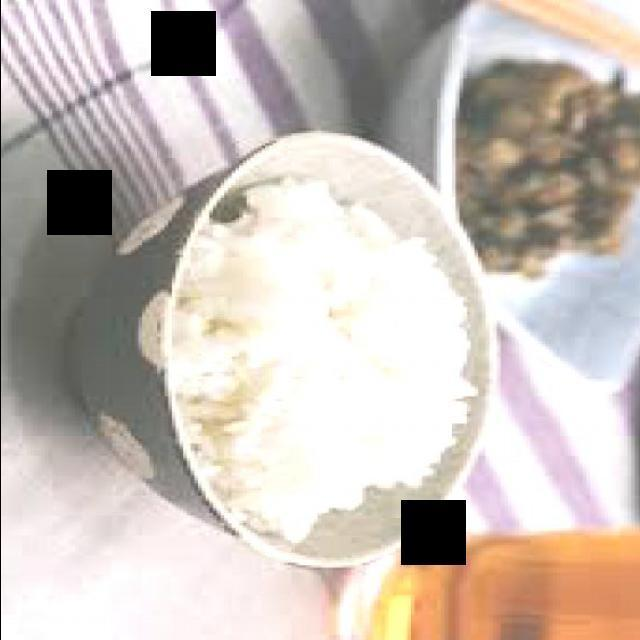Chicken -Chicken Inasal-: (171, 180, 474, 548)
